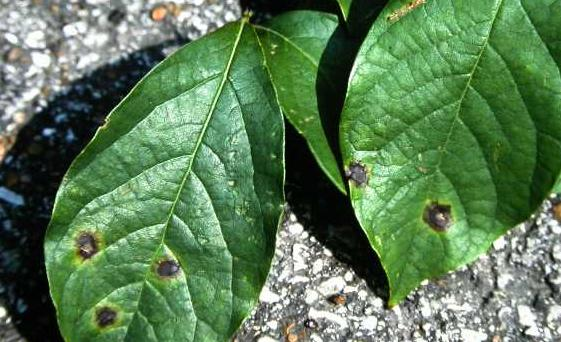Tomato leaf bacterial spot: (12, 15, 294, 342), (321, 0, 561, 318)
